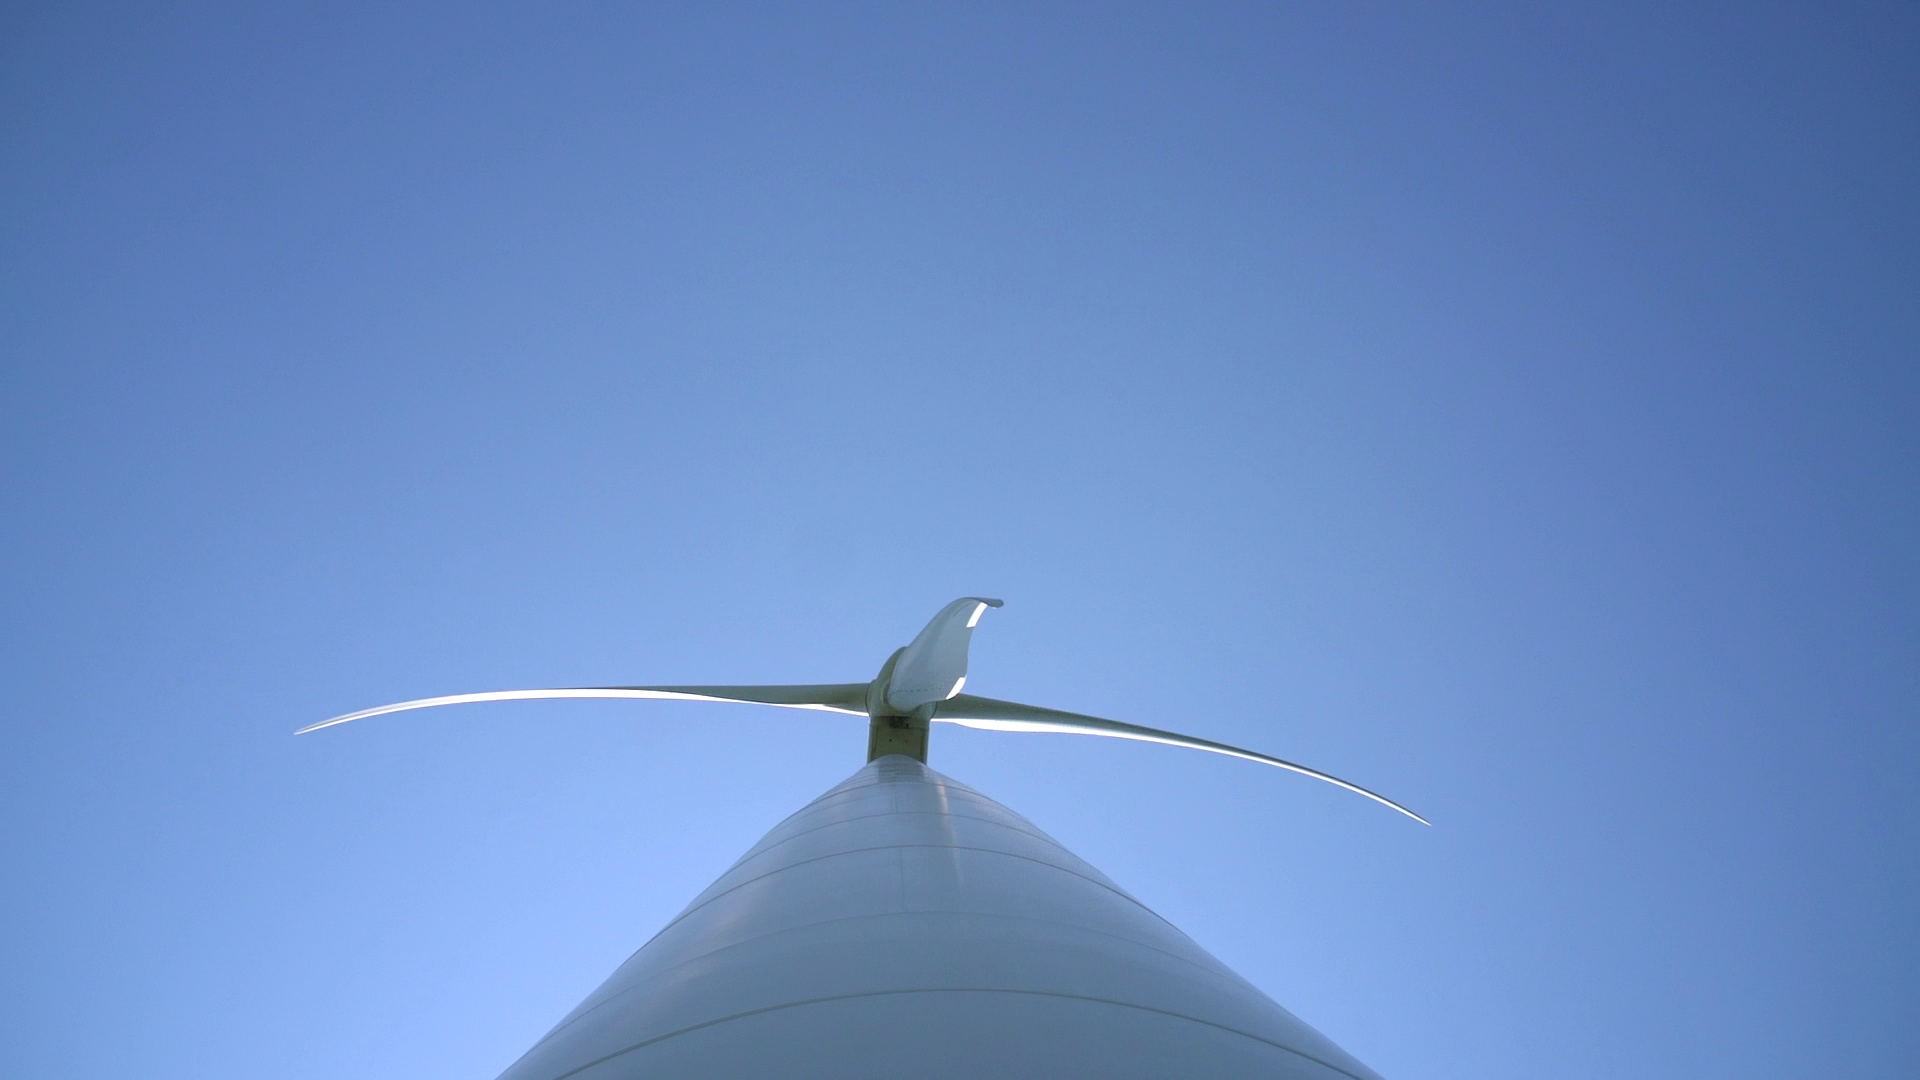turbine: (951, 669, 1460, 853), (233, 657, 880, 756), (869, 546, 1058, 837)
